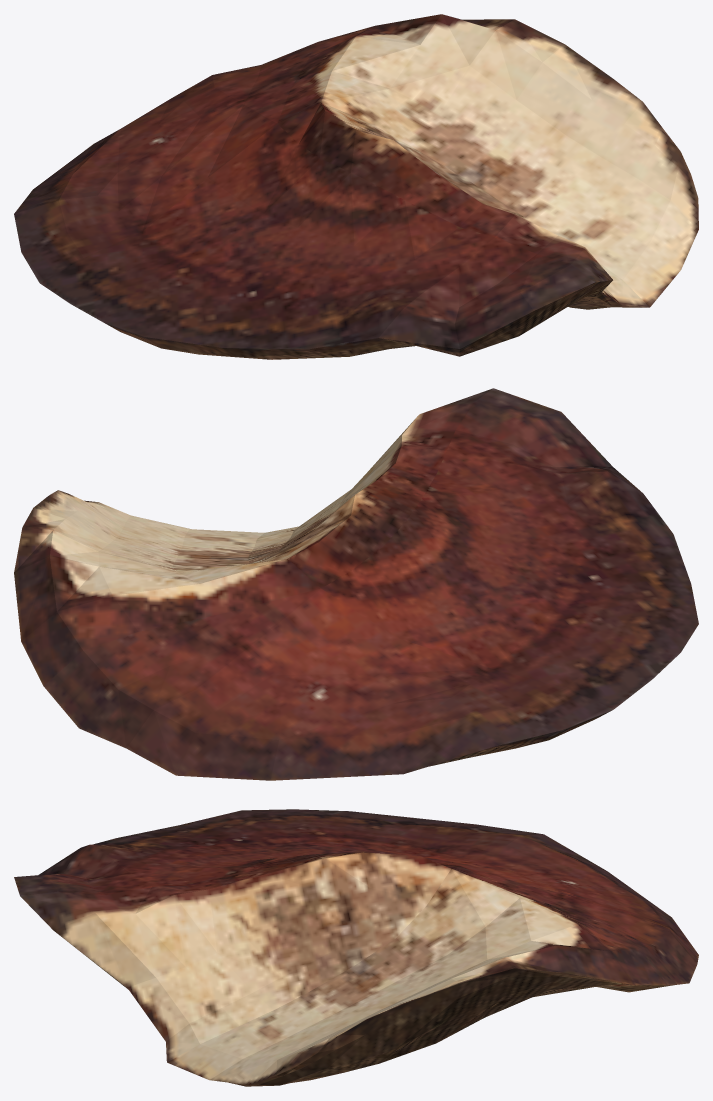
The model's file is P_Lingzhi_03.obj.
3 renders of one model, top to bottom at view 1: azimuth 30°, elevation 25°; view 2: azimuth 150°, elevation 25°; view 3: azimuth 270°, elevation 25°, orthographic. The views are drawn at different scales.
Size of the model in its own units: 0.7234 by 0.2045 by 0.8037.
1 material, 1 textured.
